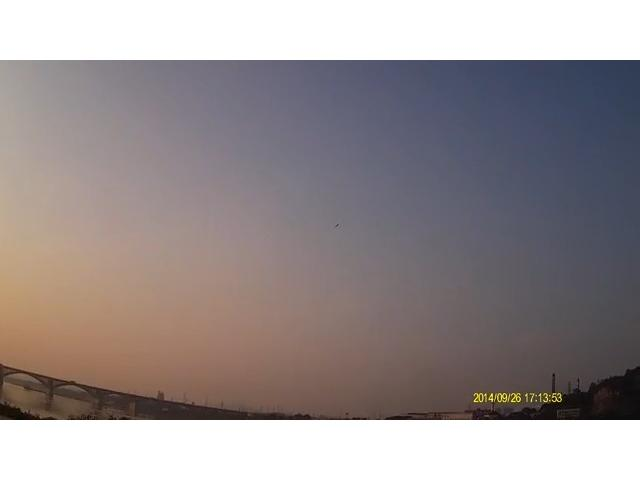Anti-Drone: (326, 217, 344, 235)
